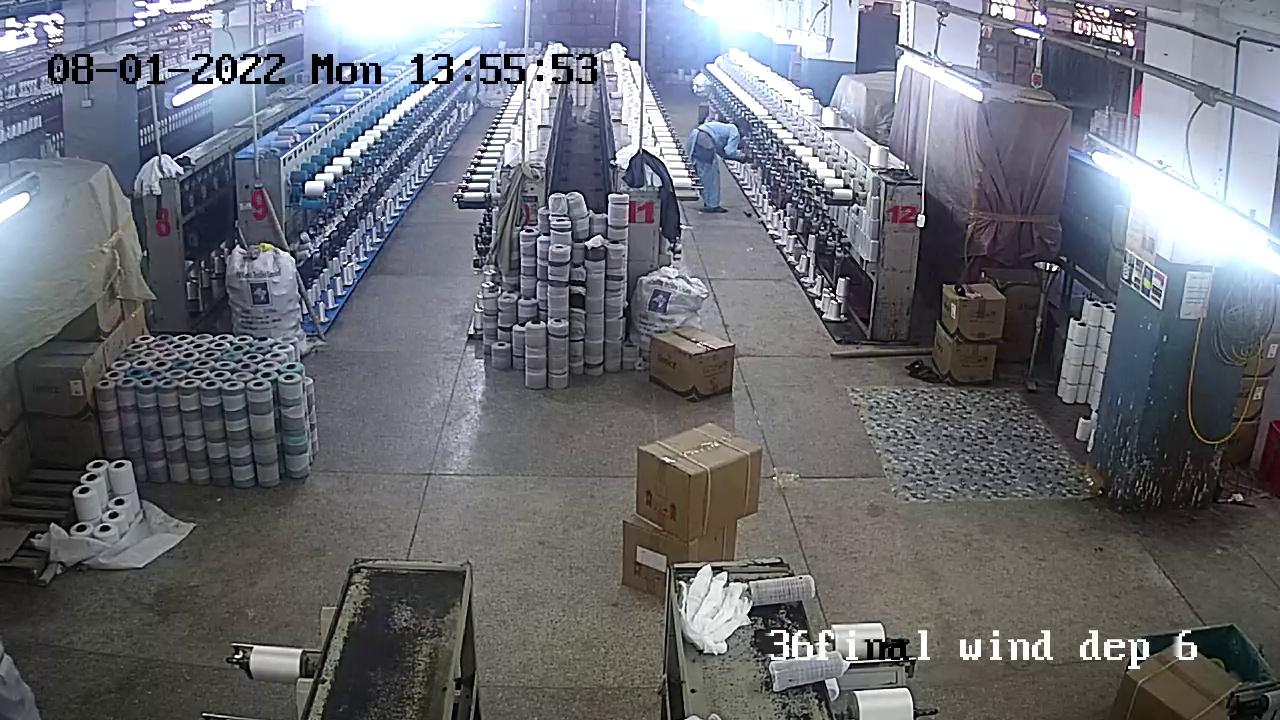person: (691, 120, 744, 212)
